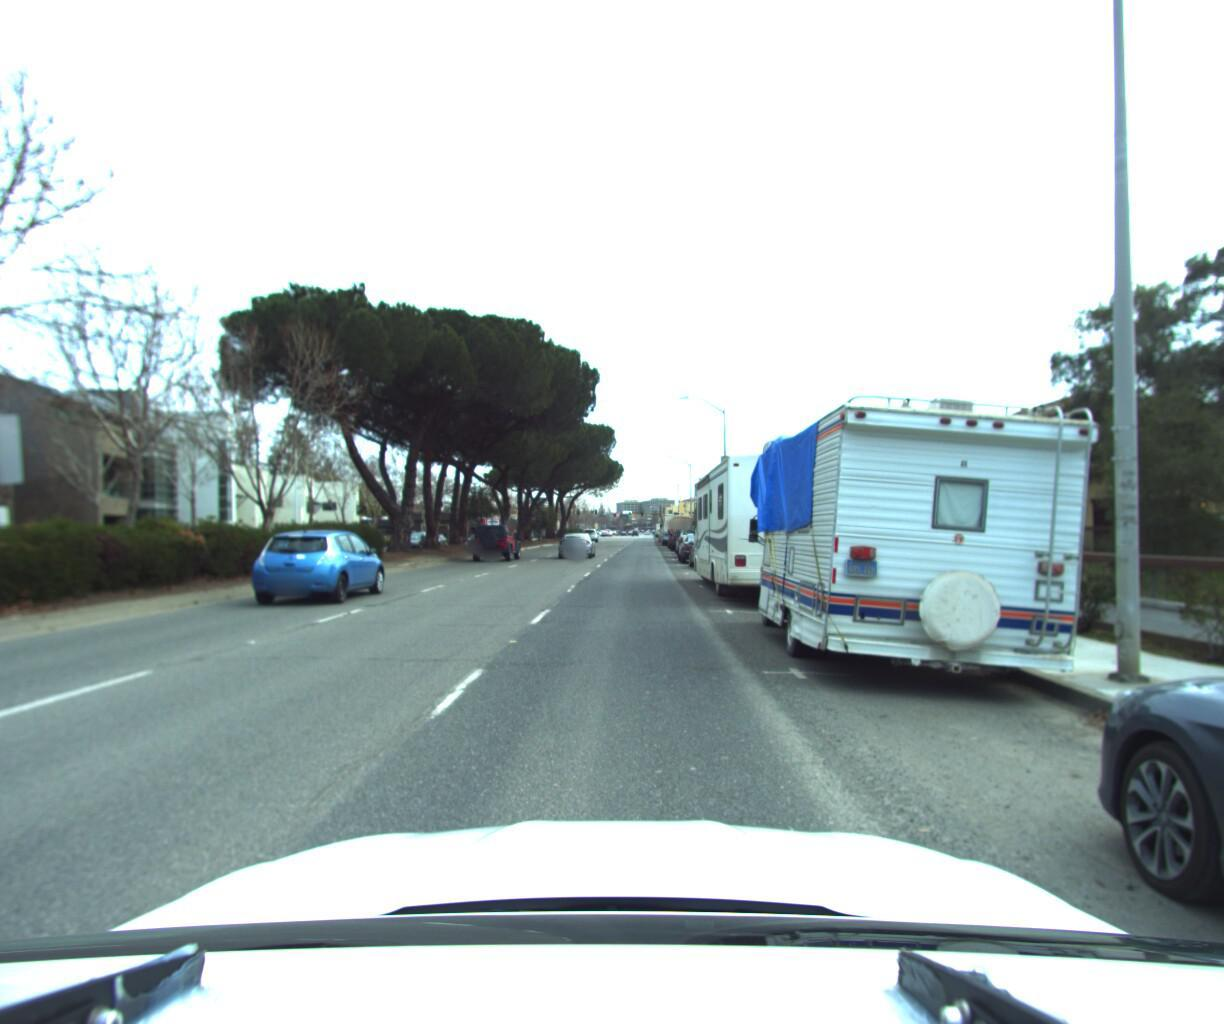car: (250, 524, 395, 608), (470, 520, 522, 561), (676, 528, 723, 563), (679, 517, 719, 558), (553, 527, 591, 558), (669, 513, 699, 548)
other_vehicle: (745, 368, 1126, 707), (689, 424, 870, 611)
